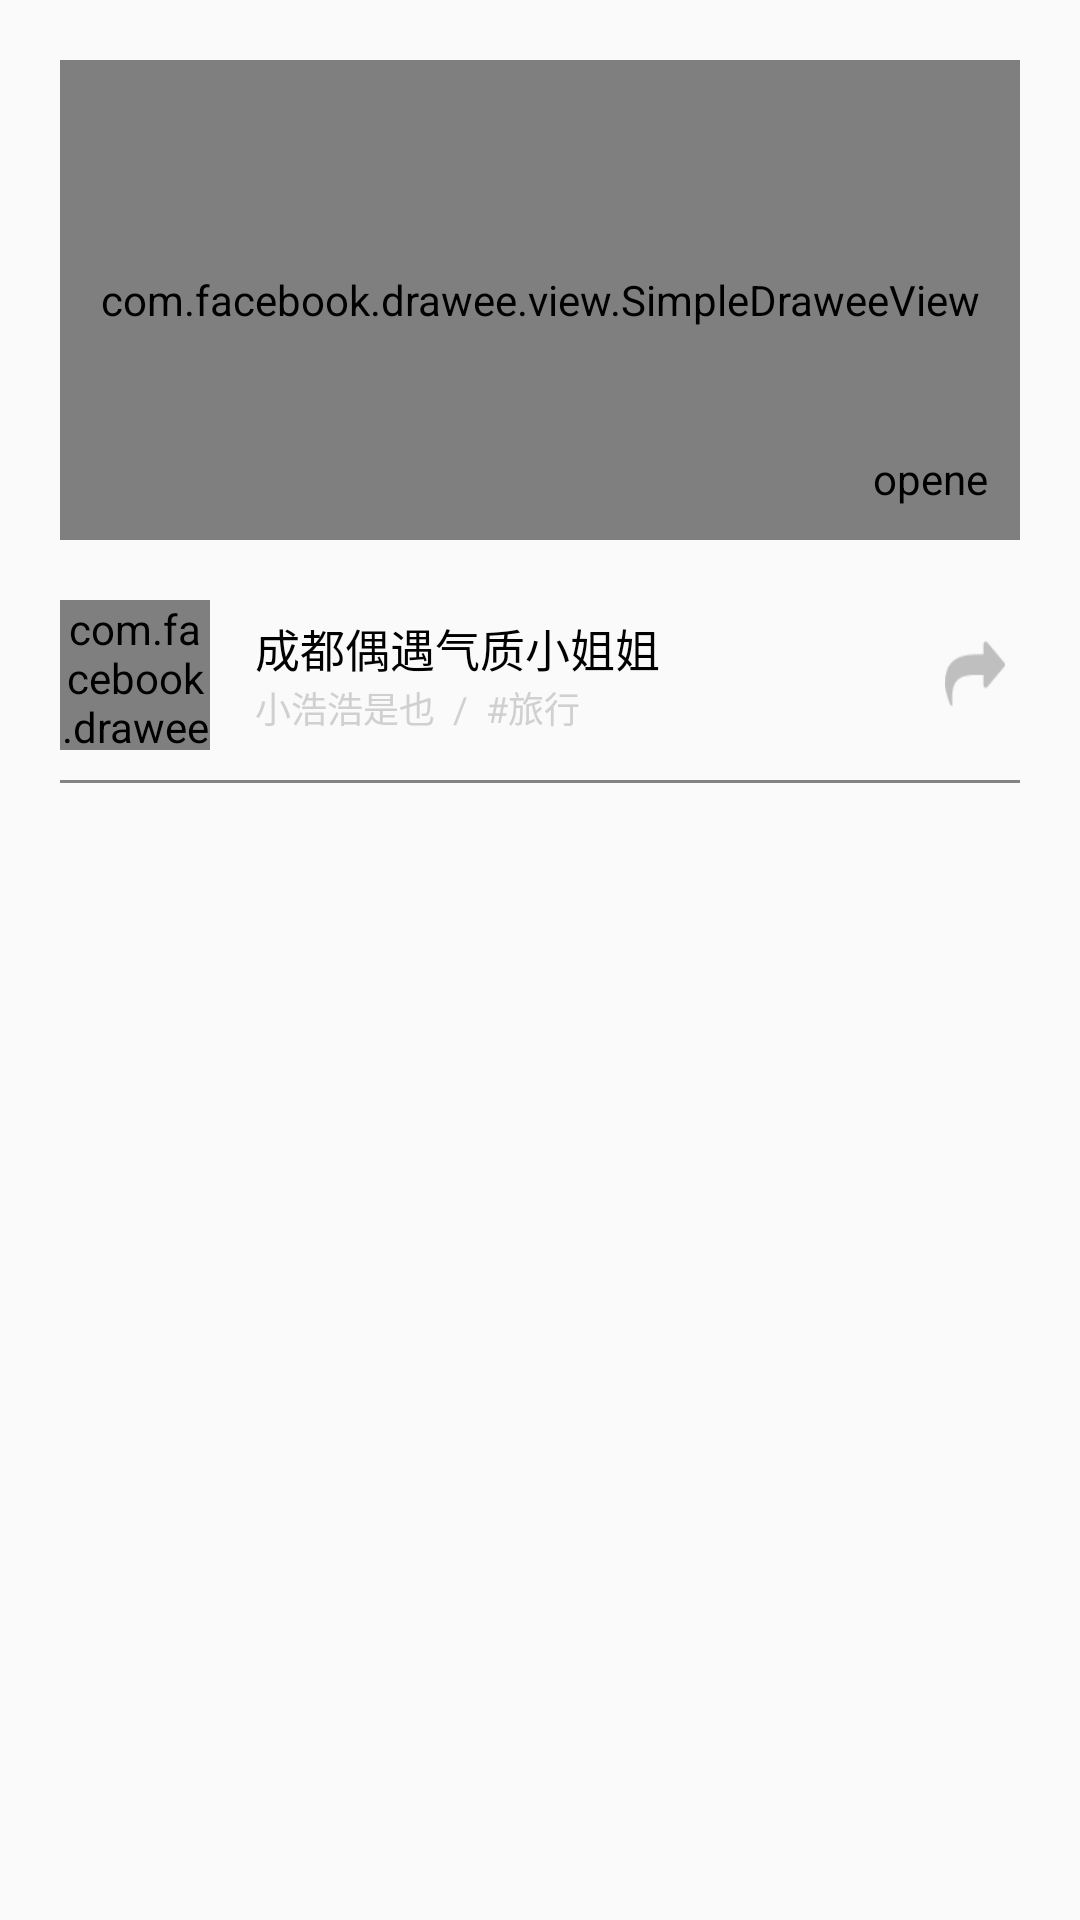

Where icons sit on this 1080 x 1920 app screen, as (x1, y1, x2, y2):
search share: (945, 642, 1005, 706)
